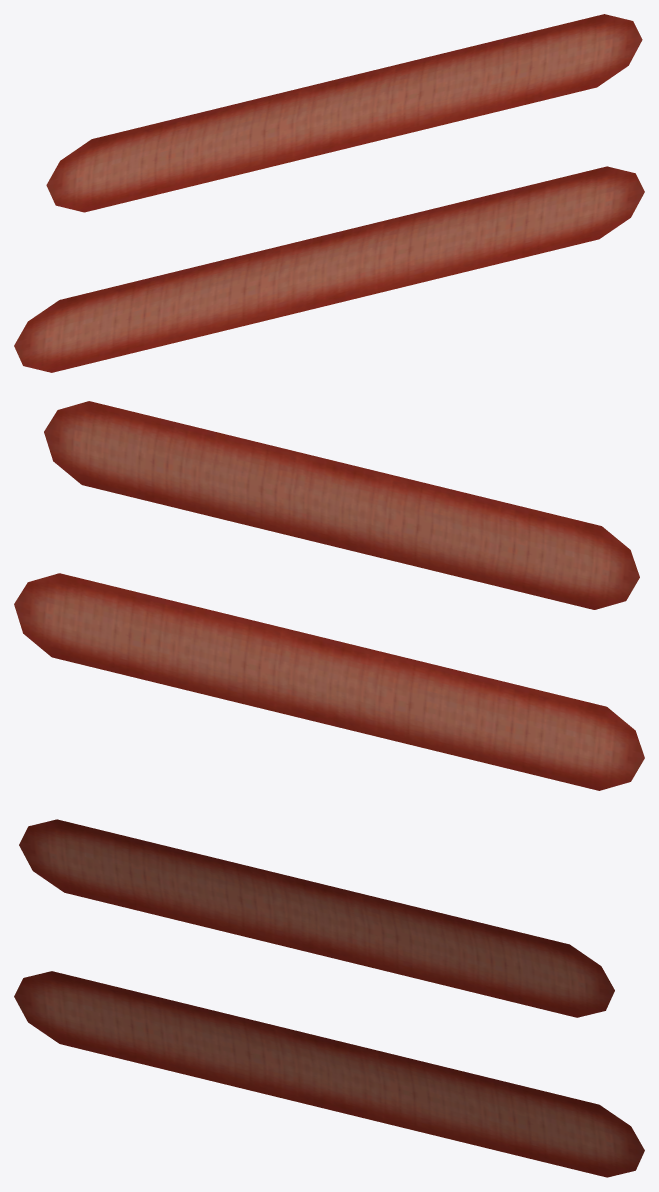
The model's file is vt49_engine_s02_on_l1.fbx.
3 views of the same model, one above another, from view 1: azimuth 30°, elevation 25°; view 2: azimuth 150°, elevation 25°; view 3: azimuth 330°, elevation 25° (orthographic).
Visible parts, largest first — view 1: mesh_node; view 2: mesh_node; view 3: mesh_node.
Boxes of the visible parts, bbox=[...] form: mesh_node: bbox=[14, 14, 644, 372]; mesh_node: bbox=[14, 401, 644, 790]; mesh_node: bbox=[14, 819, 644, 1177].
Bounding box in the file's own units: 7.75 × 2.87 × 0.4519.
1 material, 1 textured.
